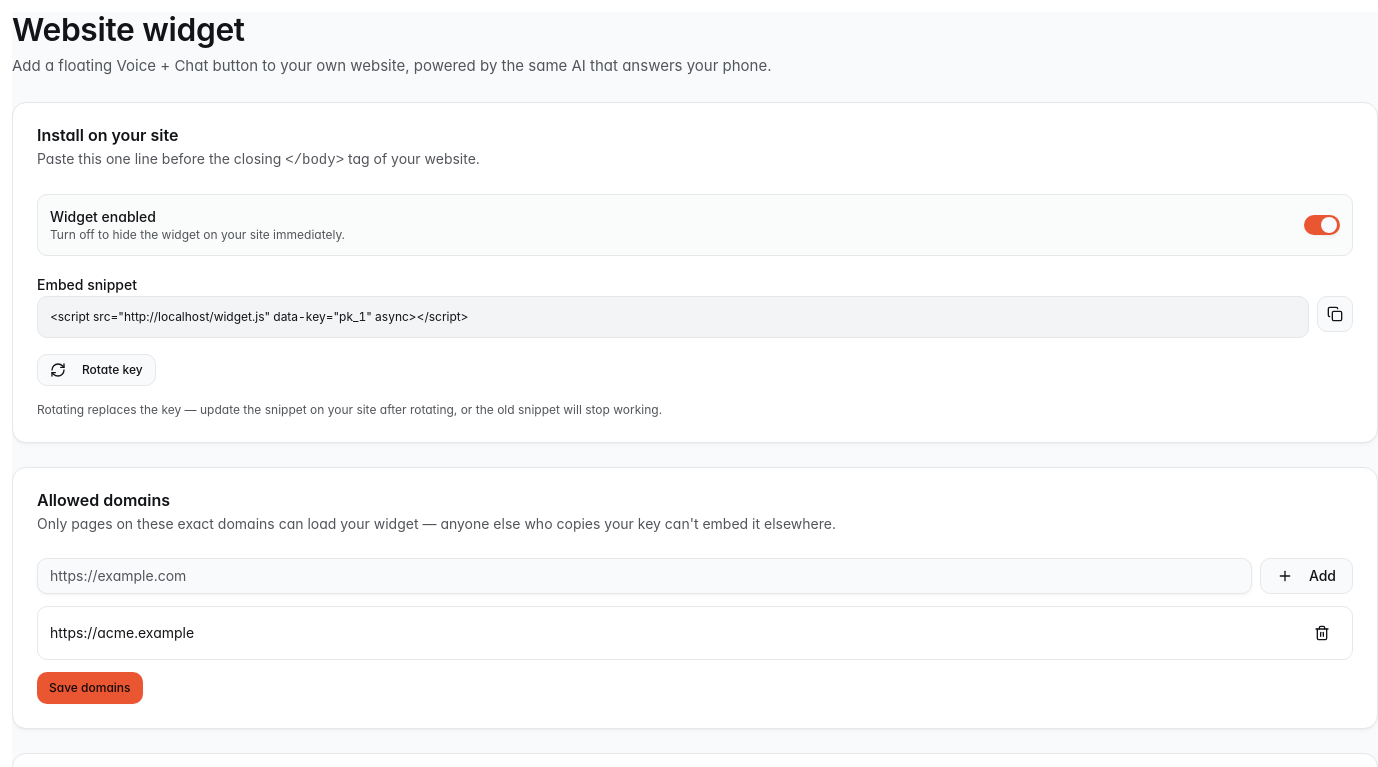
Test: WebsiteWidgetClient › removes a domain from the allowlist
expect the text "https://acme.example" is shown: met, box top-left (50, 623), bottom-right (194, 643)
Click the button named "Remove https://acme.example" at point(1322, 633), box top-left (1304, 615), bottom-right (1340, 651)
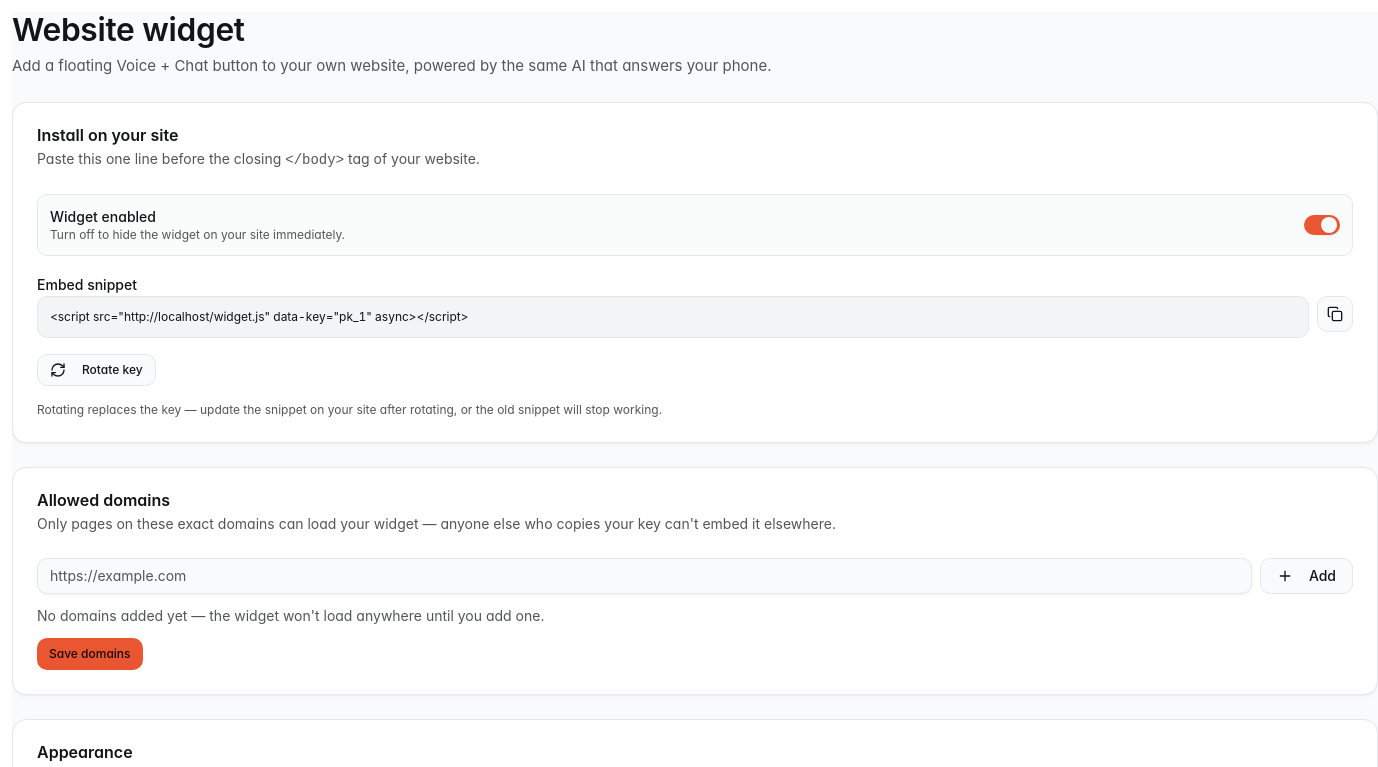
expect the text "https://acme.example" is gone: met
